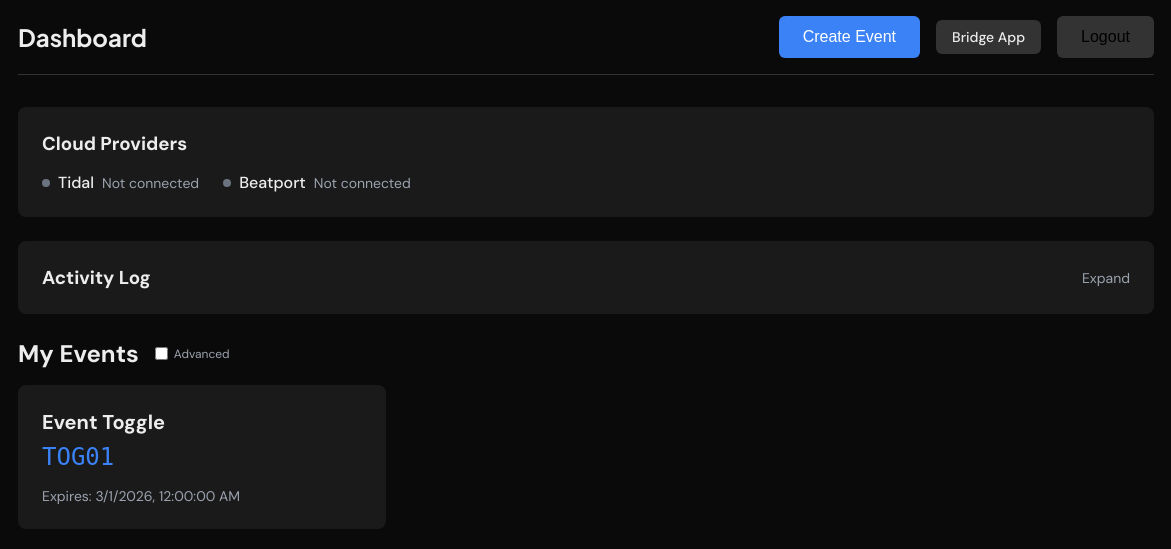
DashboardPage › deselects all events when Advanced is unchecked
expect the heading "Event Toggle" is shown: met, box [42,409,165,435]
Click the checkbox labelled "Advanced" at (161, 354), box [155,347,168,360]
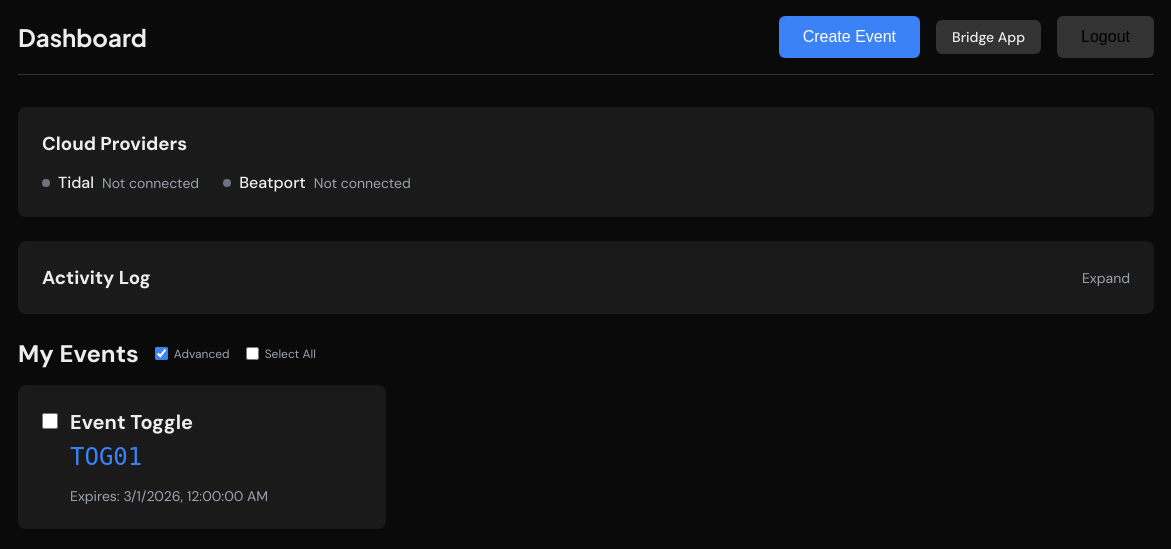
Click the checkbox labelled "Select All" at (252, 354), box [246,347,259,360]
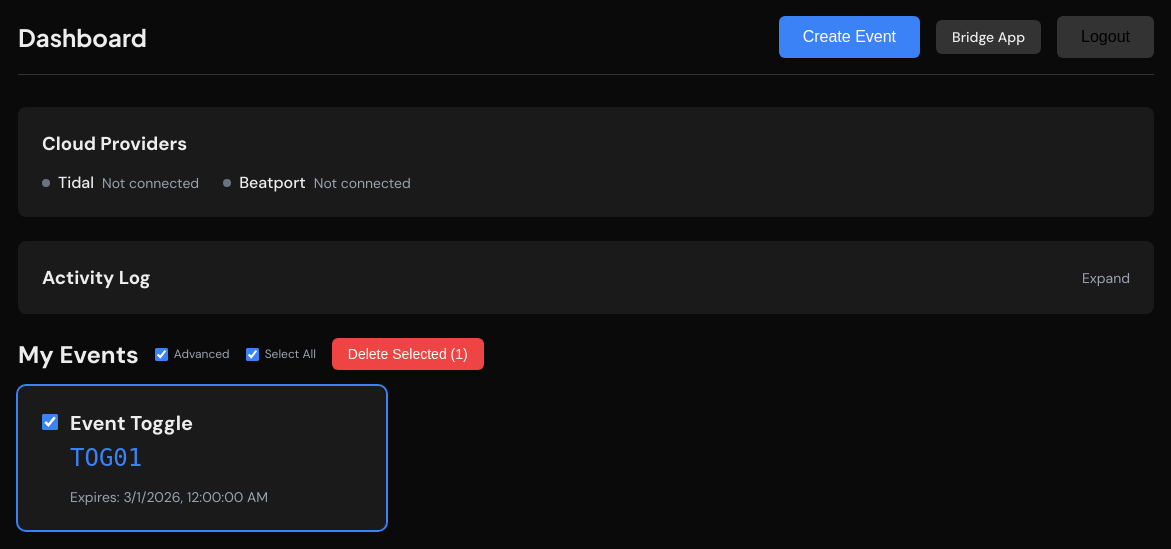
Uncheck advanced — should clear selection
Click the checkbox labelled "Advanced" at (161, 354), box [155,348,168,360]
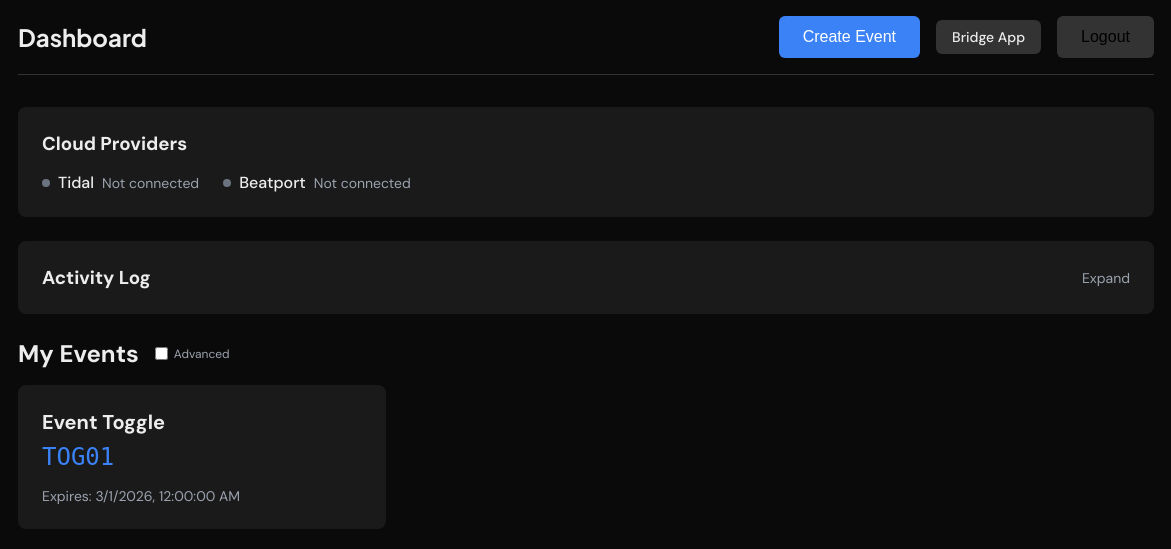
expect the label labelled "Select All" is gone: met
